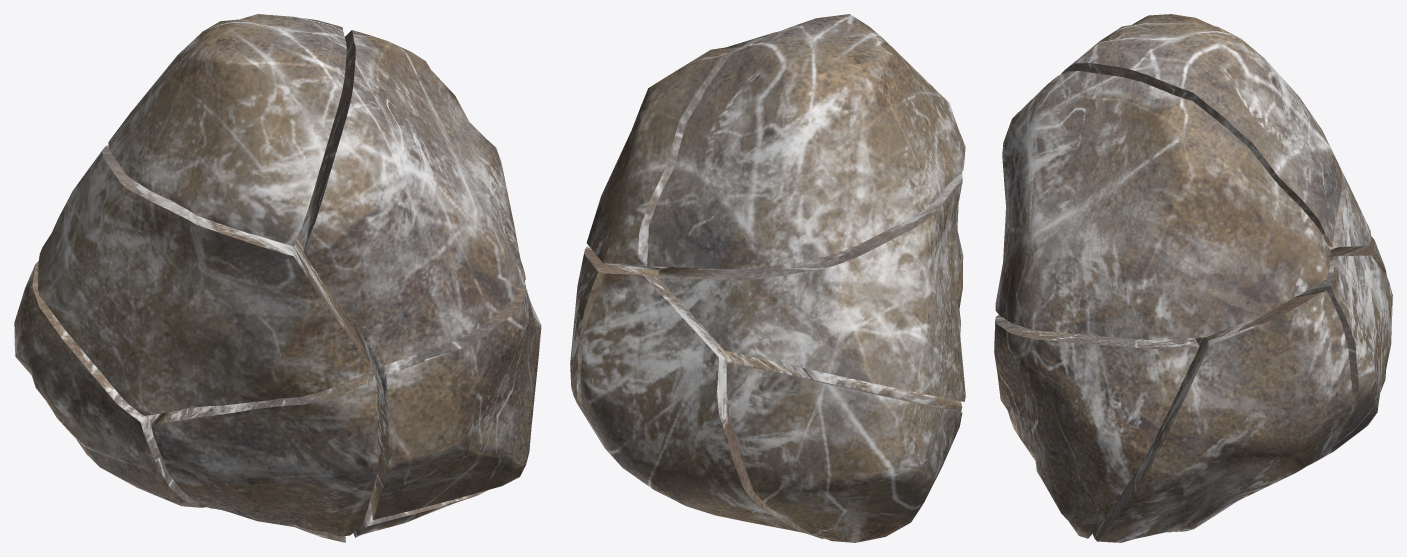
File: SM_MetalNode_2a_Pieces.fbx
3 renders of one model, left to right at view 1: azimuth 30°, elevation 25°; view 2: azimuth 150°, elevation 25°; view 3: azimuth 270°, elevation 25°, orthographic. The views are drawn at different scales.
Parts seen in each view (by area): view 1: SM_MetalNode_2a_Pieces_cell_2, SM_MetalNode_2a_Pieces_cell_6, SM_MetalNode_2a_Pieces_cell_4, SM_MetalNode_2a_Pieces_cell_7, SM_MetalNode_2a_Pieces_cell_3, SM_MetalNode_2a_Pieces_cell_1, SM_MetalNode_2a_Pieces_cell_8; view 2: SM_MetalNode_2a_Pieces_cell_4, SM_MetalNode_2a_Pieces_cell_2, SM_MetalNode_2a_Pieces_cell_5, SM_MetalNode_2a_Pieces_cell_1, SM_MetalNode_2a_Pieces_cell_6, SM_MetalNode_2a_Pieces_cell_8, SM_MetalNode_2a_Pieces_cell_3; view 3: SM_MetalNode_2a_Pieces_cell_6, SM_MetalNode_2a_Pieces_cell_8, SM_MetalNode_2a_Pieces_cell_7, SM_MetalNode_2a_Pieces_cell_4, SM_MetalNode_2a_Pieces_cell_5, SM_MetalNode_2a_Pieces_cell_2.
Part boxes in pixels (box(x1,y1,x2,y2)): SM_MetalNode_2a_Pieces_cell_2: box(38, 145, 371, 415); SM_MetalNode_2a_Pieces_cell_6: box(300, 30, 525, 365); SM_MetalNode_2a_Pieces_cell_4: box(108, 14, 346, 246); SM_MetalNode_2a_Pieces_cell_7: box(362, 281, 541, 519); SM_MetalNode_2a_Pieces_cell_3: box(151, 370, 378, 536); SM_MetalNode_2a_Pieces_cell_1: box(14, 261, 205, 507); SM_MetalNode_2a_Pieces_cell_8: box(353, 490, 487, 537); SM_MetalNode_2a_Pieces_cell_4: box(647, 14, 965, 269); SM_MetalNode_2a_Pieces_cell_2: box(658, 172, 965, 401); SM_MetalNode_2a_Pieces_cell_5: box(580, 274, 823, 538); SM_MetalNode_2a_Pieces_cell_1: box(726, 362, 962, 542); SM_MetalNode_2a_Pieces_cell_6: box(586, 31, 777, 271); SM_MetalNode_2a_Pieces_cell_8: box(570, 245, 658, 454); SM_MetalNode_2a_Pieces_cell_3: box(802, 367, 962, 411); SM_MetalNode_2a_Pieces_cell_6: box(995, 71, 1330, 339); SM_MetalNode_2a_Pieces_cell_8: box(1093, 290, 1352, 542); SM_MetalNode_2a_Pieces_cell_7: box(994, 314, 1199, 538); SM_MetalNode_2a_Pieces_cell_4: box(1061, 14, 1342, 247); SM_MetalNode_2a_Pieces_cell_5: box(1297, 255, 1392, 464); SM_MetalNode_2a_Pieces_cell_2: box(1328, 170, 1370, 257).
Bounding box in the file's own units: 0.9098 × 1.05 × 0.8231.
